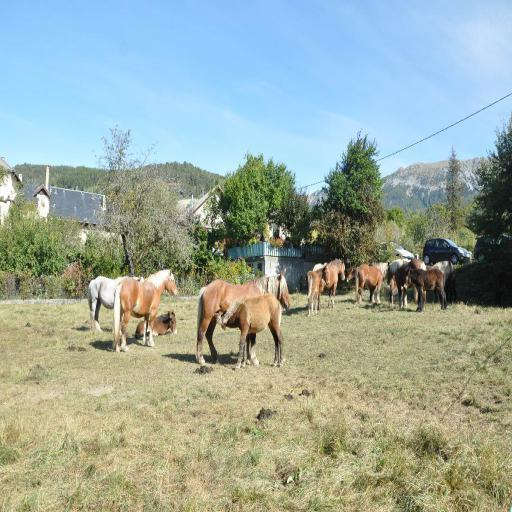horse: (194, 268, 292, 362), (112, 266, 180, 354), (220, 288, 284, 370), (86, 272, 146, 332), (384, 257, 426, 308), (402, 266, 446, 310), (344, 262, 384, 304), (318, 258, 346, 312), (306, 262, 332, 318), (135, 309, 177, 340), (430, 257, 456, 305), (344, 266, 360, 280)
